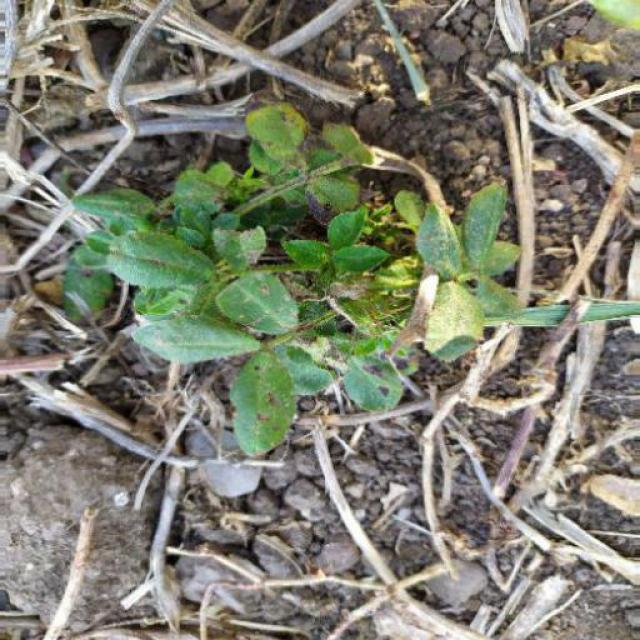weed: (65, 96, 529, 442)
